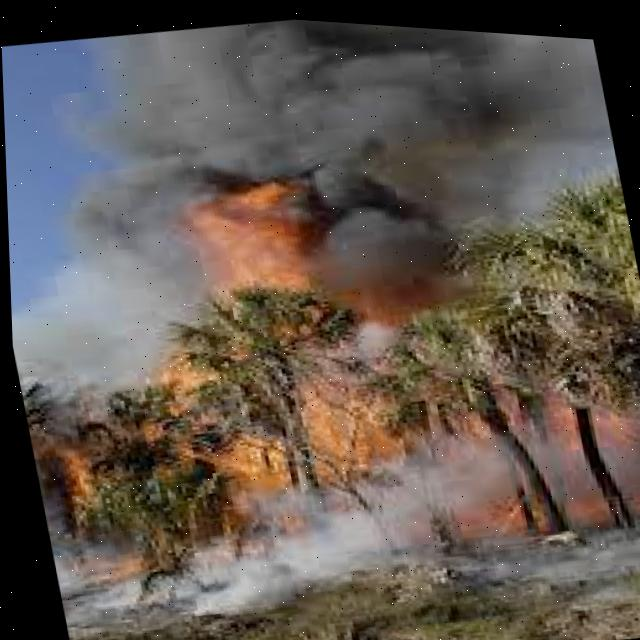fire: (291, 377, 428, 479), (195, 198, 295, 294), (210, 428, 306, 482)
smoke: (96, 15, 614, 192), (215, 472, 515, 582), (40, 202, 202, 357), (56, 539, 274, 633), (302, 171, 487, 280), (520, 427, 640, 591)
